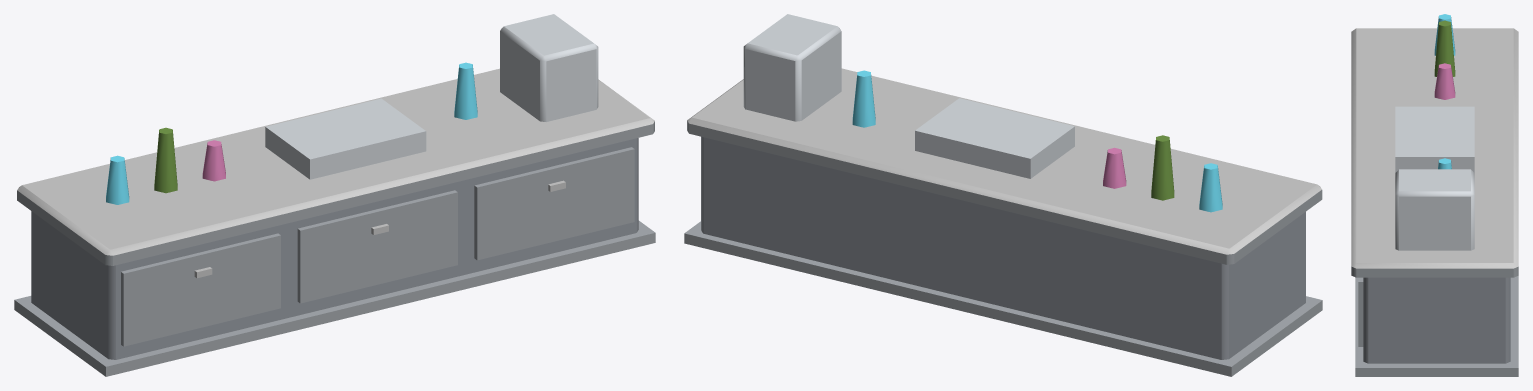
The model's file is bench_drug.obj.
3 views of the same model, side by side, from view 1: azimuth 30°, elevation 25°; view 2: azimuth 150°, elevation 25°; view 3: azimuth 270°, elevation 25° (orthographic). The views are drawn at different scales.
Visible parts, largest first — view 1: lab_worktop, cabinet_body, retained_25, retained_35, retained_15, retained_5, lab_appliance, retained_73, retained_52, retained_66, retained_45, retained_59; view 2: cabinet_body, lab_worktop, retained_5, lab_appliance, retained_73, retained_52, retained_66, retained_45, retained_59; view 3: lab_worktop, cabinet_body, lab_appliance, retained_73, retained_5, retained_52, retained_59, retained_35, retained_45, retained_66.
Part boxes in pixels (left/top/right/bottom): lab_worktop: left=17, top=68, right=654, bottom=265; cabinet_body: left=31, top=138, right=638, bottom=359; retained_25: left=297, top=190, right=457, bottom=303; retained_35: left=474, top=147, right=634, bottom=260; retained_15: left=121, top=233, right=280, bottom=346; retained_5: left=14, top=220, right=655, bottom=376; lab_appliance: left=500, top=14, right=598, bottom=121; retained_73: left=265, top=98, right=426, bottom=179; retained_52: left=154, top=127, right=177, bottom=193; retained_66: left=454, top=62, right=477, bottom=119; retained_45: left=106, top=155, right=129, bottom=204; retained_59: left=202, top=140, right=225, bottom=181; cabinet_body: left=701, top=136, right=1305, bottom=359; lab_worktop: left=687, top=68, right=1322, bottom=264; retained_5: left=684, top=221, right=1322, bottom=376; lab_appliance: left=743, top=14, right=841, bottom=121; retained_73: left=915, top=98, right=1074, bottom=178; retained_52: left=1151, top=135, right=1174, bottom=200; retained_66: left=852, top=70, right=875, bottom=127; retained_45: left=1199, top=163, right=1222, bottom=212; retained_59: left=1103, top=147, right=1126, bottom=188; lab_worktop: left=1351, top=28, right=1518, bottom=277; cabinet_body: left=1363, top=277, right=1510, bottom=363; lab_appliance: left=1395, top=169, right=1474, bottom=250; retained_73: left=1395, top=106, right=1474, bottom=172; retained_5: left=1355, top=276, right=1518, bottom=376; retained_52: left=1434, top=20, right=1455, bottom=76; retained_59: left=1434, top=63, right=1455, bottom=99; retained_35: left=1358, top=277, right=1363, bottom=346; retained_45: left=1434, top=14, right=1455, bottom=55; retained_66: left=1438, top=158, right=1451, bottom=169.
Size of the model in its own units: 2.84 by 0.94 by 0.84.
